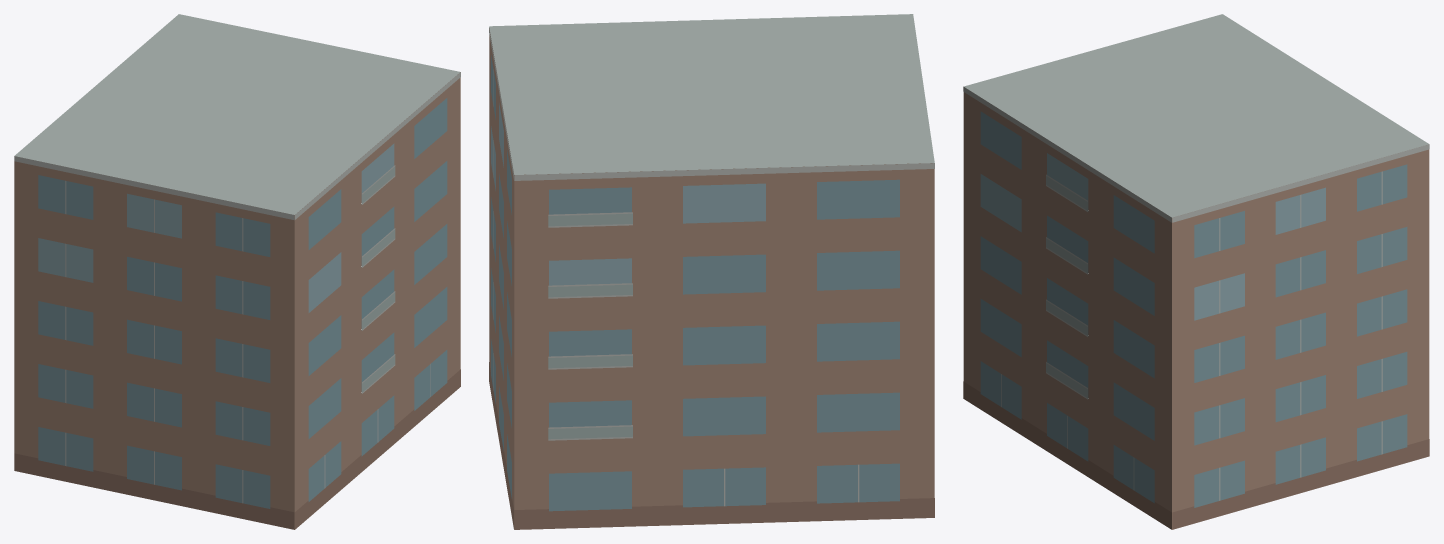
File: survey-upis-32892071.glb
The picture shows the model from 3 angles, left to right: view 1: azimuth 30°, elevation 25°; view 2: azimuth 150°, elevation 25°; view 3: azimuth 270°, elevation 25°; orthographic projection. The views are drawn at different scales.
Parts seen in each view (by area): view 1: survey-upis-32892071.tmp; view 2: survey-upis-32892071.tmp; view 3: survey-upis-32892071.tmp.
Boxes of the visible parts, x1,y1,x2,y2 form: survey-upis-32892071.tmp: (14, 14, 460, 529); survey-upis-32892071.tmp: (489, 14, 934, 529); survey-upis-32892071.tmp: (963, 14, 1429, 529).
Size of the model in its own units: 20.44 by 14.6 by 19.76.
